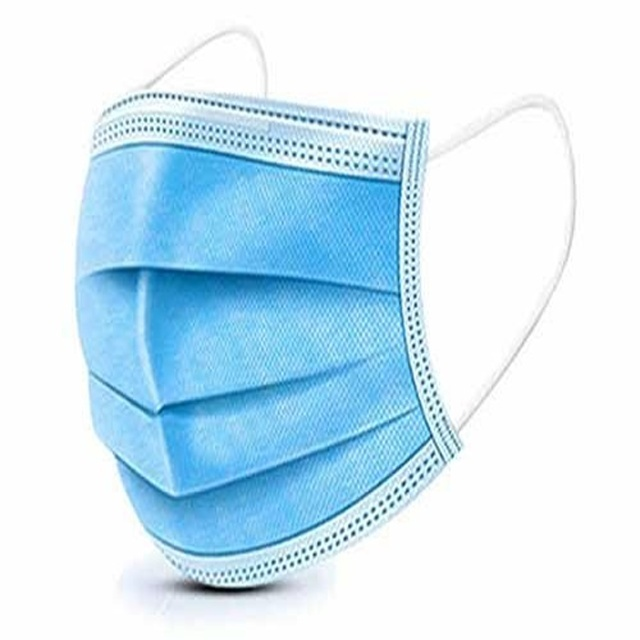mask: (70, 26, 585, 589)
